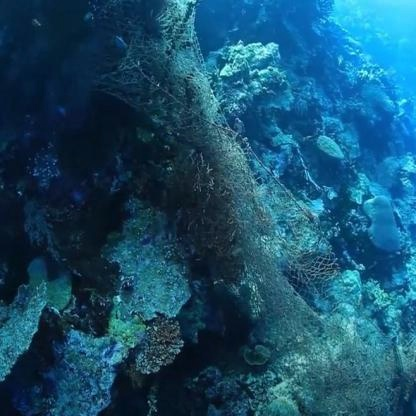net: (150, 39, 328, 306)
